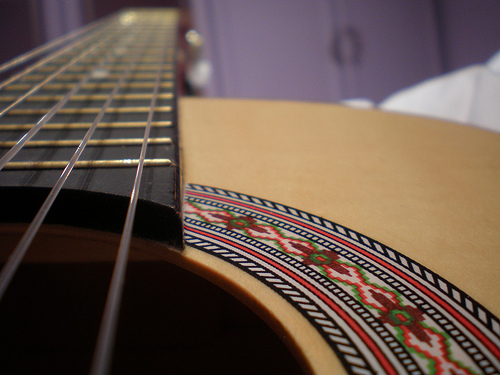guitar: (1, 4, 500, 375)
